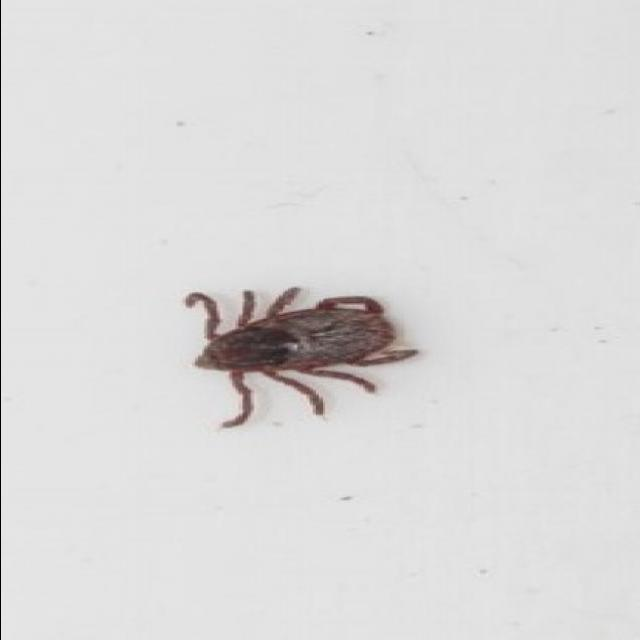Rhipicephalus Sanguineus-F: (185, 286, 420, 432)
